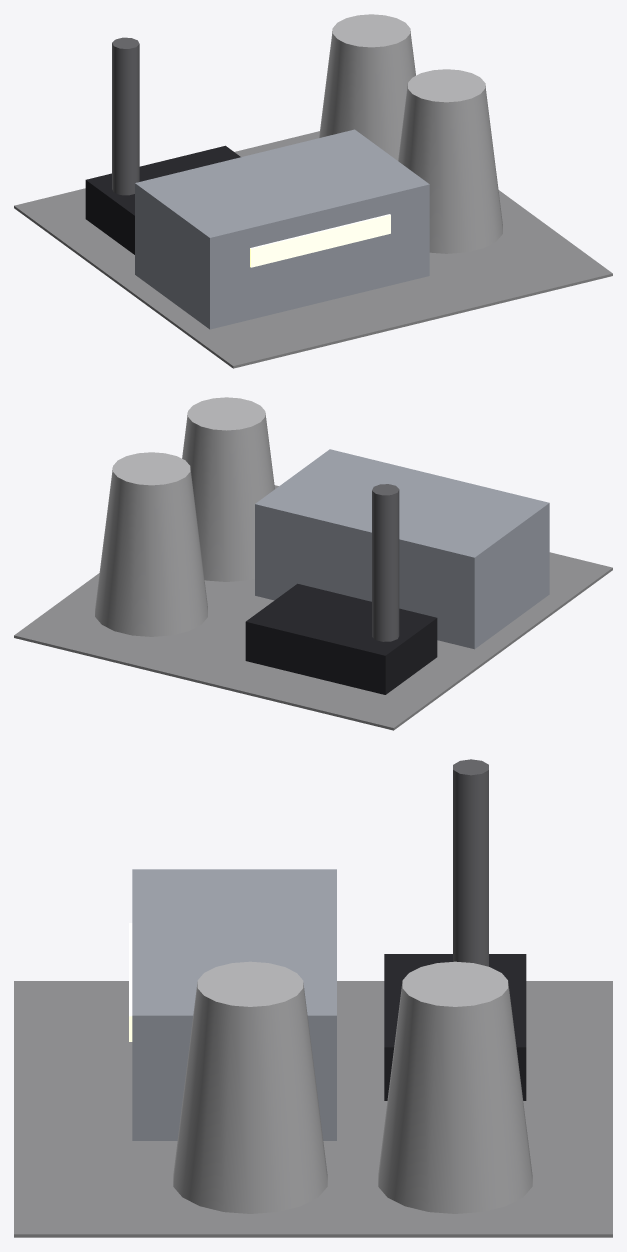
Rendered from power_station.glb.
The picture shows the model from 3 angles, top to bottom: view 1: azimuth 30°, elevation 25°; view 2: azimuth 150°, elevation 25°; view 3: azimuth 270°, elevation 25°; orthographic projection. The views are drawn at different scales.
Parts seen in each view (by area): view 1: Hall, Pad, Tower2, Tower1, Chimney, CoalStore, Glow; view 2: Hall, Pad, Tower1, CoalStore, Tower2, Chimney; view 3: Pad, Hall, Tower1, Tower2, Chimney, CoalStore.
Part boxes in pixels (x1,y1,x2,y2): Hall: [135, 129, 429, 329]; Pad: [14, 131, 612, 368]; Tower2: [398, 69, 502, 253]; Tower1: [319, 14, 415, 160]; Chimney: [112, 37, 139, 195]; CoalStore: [85, 145, 240, 254]; Glow: [250, 214, 390, 267]; Hall: [255, 449, 549, 649]; Pad: [14, 485, 612, 730]; Tower1: [95, 452, 207, 636]; CoalStore: [245, 583, 437, 694]; Tower2: [182, 397, 274, 581]; Chimney: [372, 484, 399, 641]; Pad: [14, 981, 612, 1237]; Hall: [132, 869, 336, 1140]; Tower1: [378, 961, 532, 1213]; Tower2: [173, 961, 327, 1213]; Chimney: [453, 759, 488, 966]; CoalStore: [384, 954, 526, 1100].
Size of the model in its own units: 3.8 by 1.8 by 3.8.
